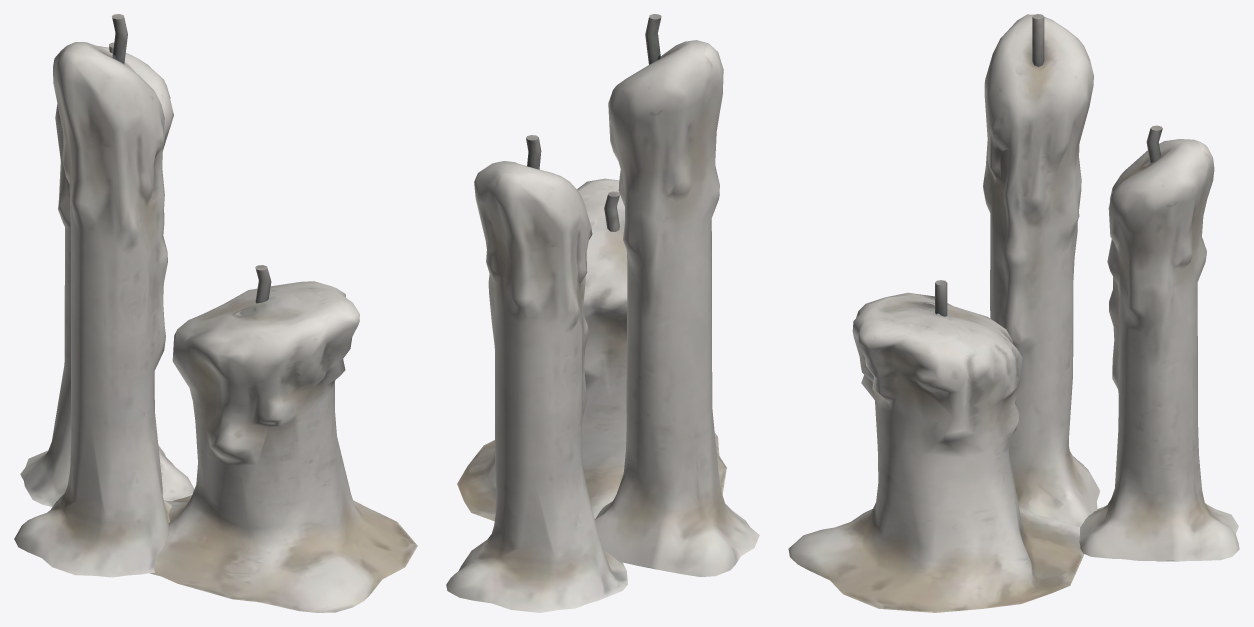
3 renders of one model, left to right at view 1: azimuth 30°, elevation 25°; view 2: azimuth 150°, elevation 25°; view 3: azimuth 270°, elevation 25°, orthographic. The views are drawn at different scales.
Parts seen in each view (by area): view 1: SM_Candle_01_v5_LOD0; view 2: SM_Candle_01_v5_LOD0; view 3: SM_Candle_01_v5_LOD0.
Boxes of the visible parts, x1,y1,x2,y2 form: SM_Candle_01_v5_LOD0: (14,14,417,612); SM_Candle_01_v5_LOD0: (446,14,759,612); SM_Candle_01_v5_LOD0: (788,14,1239,612).
Size of the model in its own units: 0.1967 by 0.3136 by 0.2604.
1 material, 1 textured.
